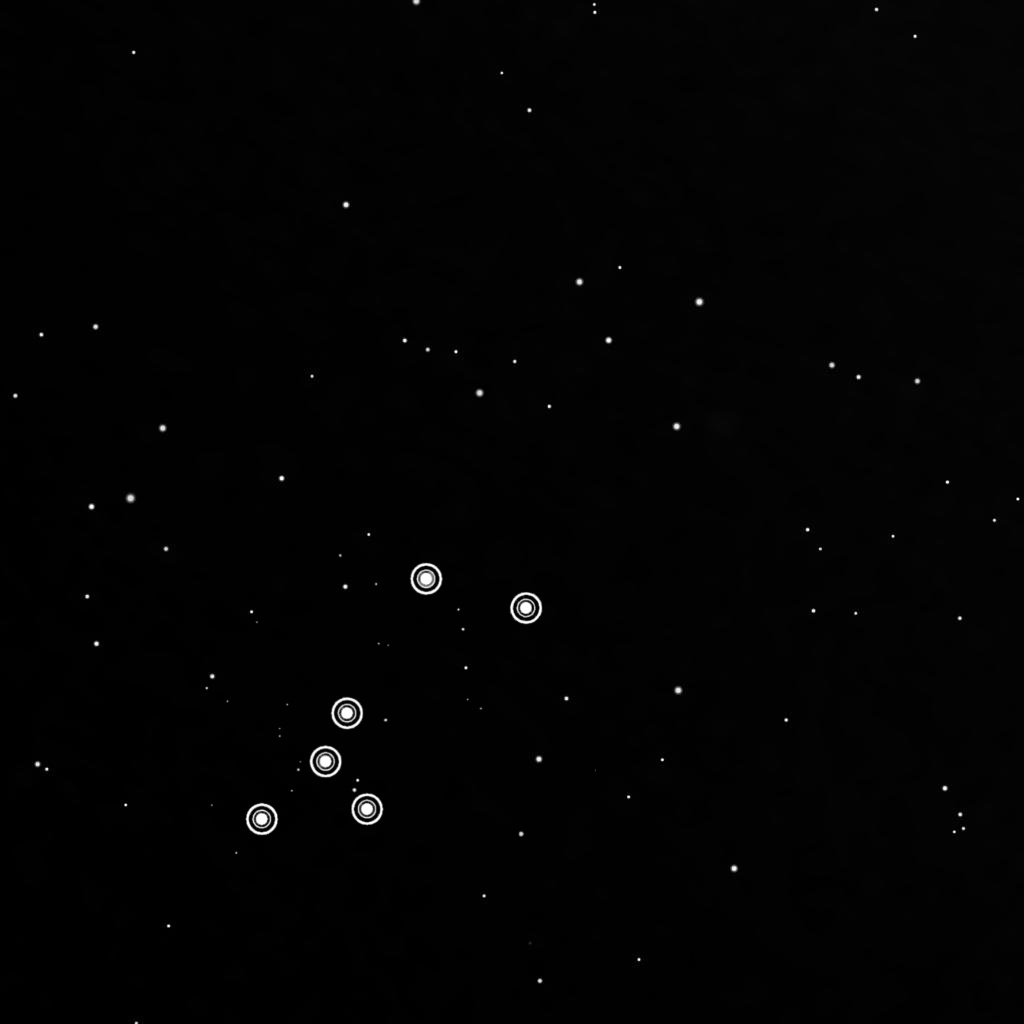canis_major: (238, 559, 553, 844)
